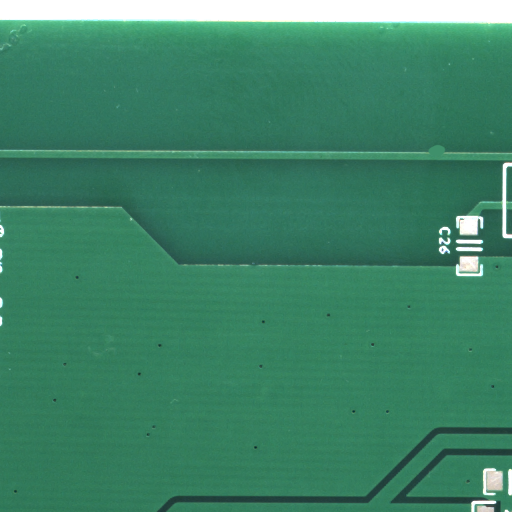Spur: (437, 149, 454, 159)
